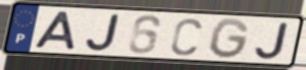6: (126, 14, 162, 55)
A: (32, 10, 77, 52)
C: (169, 16, 204, 57)
G: (208, 17, 251, 61)
J: (253, 21, 292, 61), (84, 12, 122, 53)
